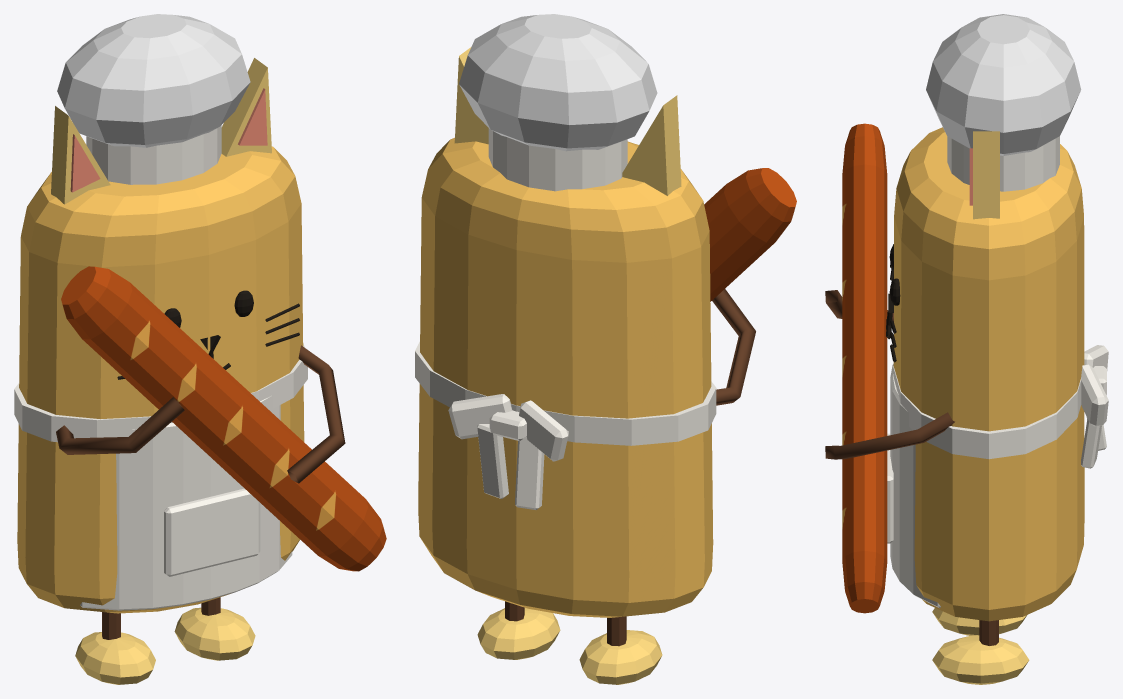
File: char_baker_cat_plump_v10.glb
The picture shows the model from 3 angles, left to right: view 1: azimuth 30°, elevation 25°; view 2: azimuth 150°, elevation 25°; view 3: azimuth 270°, elevation 25°; orthographic projection. The views are drawn at different scales.
Parts seen in each view (by area): view 1: BC3_Body_Capsule, BC3_Baguette, BC3_Hat_Puff, BC3_Apron_Front, BC3_Apron_Pocket, BC3_Hat_Band, BC3_Apron_Waistband, BC3_EarInner_L, BC3_Foot_R, BC3_Foot_L, BC3_EarInner_R, BC3_Arm_R_LowerWrap (+1 smaller); view 2: BC3_Body_Capsule, BC3_Hat_Puff, BC3_Baguette, BC3_Apron_Waistband, BC3_Hat_Band, BC3_EarInner_L, BC3_Foot_L, BC3_Foot_R, BC3_Arm_L_UpperSupport, BC3_Ribbon_L, BC3_Bow_L, BC3_Bow_R (+3 smaller); view 3: BC3_Body_Capsule, BC3_Baguette, BC3_Hat_Puff, BC3_Apron_Waistband, BC3_Apron_Front, BC3_Foot_R, BC3_Hat_Band, BC3_EarInner_R, BC3_Arm_R_LowerWrap, BC3_Bow_R, BC3_Foot_L, BC3_Ribbon_R (+3 smaller).
Boxes of the visible parts, x1=… form: BC3_Body_Capsule: x1=17, y1=146, x2=304, y2=613; BC3_Baguette: x1=61, y1=266, x2=386, y2=571; BC3_Hat_Puff: x1=57, y1=14, x2=250, y2=147; BC3_Apron_Front: x1=80, y1=395, x2=292, y2=610; BC3_Apron_Pocket: x1=164, y1=488, x2=260, y2=576; BC3_Hat_Band: x1=86, y1=125, x2=221, y2=184; BC3_Apron_Waistband: x1=14, y1=344, x2=307, y2=442; BC3_EarInner_L: x1=51, y1=106, x2=110, y2=204; BC3_Foot_R: x1=174, y1=607, x2=255, y2=660; BC3_Foot_L: x1=75, y1=632, x2=155, y2=684; BC3_EarInner_R: x1=221, y1=58, x2=271, y2=156; BC3_Arm_R_LowerWrap: x1=287, y1=345, x2=345, y2=483; BC3_Body_Capsule: x1=418, y1=137, x2=713, y2=617; BC3_Hat_Puff: x1=459, y1=14, x2=657, y2=151; BC3_Baguette: x1=704, y1=168, x2=796, y2=301; BC3_Apron_Waistband: x1=415, y1=341, x2=716, y2=445; BC3_Hat_Band: x1=488, y1=128, x2=627, y2=191; BC3_EarInner_L: x1=622, y1=95, x2=681, y2=195; BC3_Foot_L: x1=579, y1=630, x2=662, y2=684; BC3_Foot_R: x1=477, y1=608, x2=560, y2=659; BC3_Arm_L_UpperSupport: x1=712, y1=289, x2=755, y2=405; BC3_Ribbon_L: x1=515, y1=436, x2=544, y2=509; BC3_Bow_L: x1=519, y1=400, x2=568, y2=461; BC3_Bow_R: x1=448, y1=394, x2=512, y2=439; BC3_Body_Capsule: x1=893, y1=127, x2=1084, y2=621; BC3_Baguette: x1=842, y1=123, x2=887, y2=613; BC3_Hat_Puff: x1=926, y1=14, x2=1081, y2=155; BC3_Apron_Waistband: x1=893, y1=366, x2=1081, y2=459; BC3_Apron_Front: x1=890, y1=364, x2=940, y2=607; BC3_Foot_R: x1=932, y1=635, x2=1029, y2=684; BC3_Hat_Band: x1=947, y1=136, x2=1059, y2=191; BC3_EarInner_R: x1=969, y1=131, x2=999, y2=219; BC3_Arm_R_LowerWrap: x1=825, y1=412, x2=954, y2=459; BC3_Bow_R: x1=1081, y1=364, x2=1108, y2=426; BC3_Foot_L: x1=932, y1=608, x2=1026, y2=635; BC3_Ribbon_R: x1=1081, y1=394, x2=1106, y2=468.
Bounding box in the file's own units: 3.56 × 6.67 × 2.74.
Materials: 7 (1 with a texture image).
